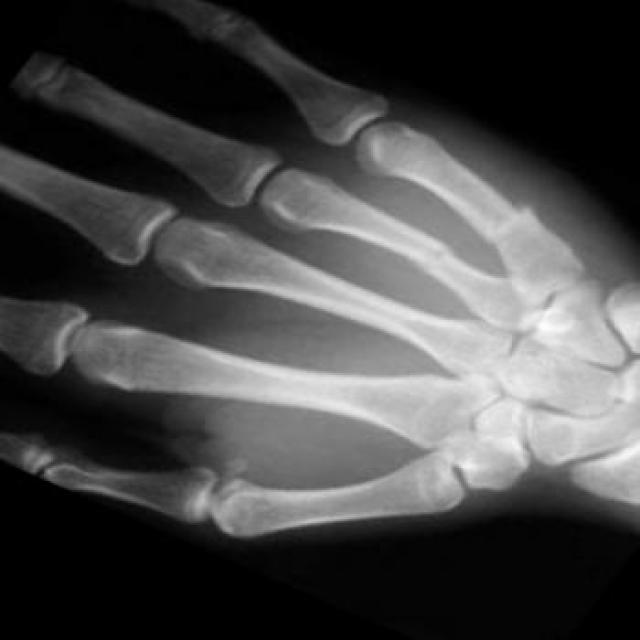Fracture: (475, 200, 547, 242), (422, 232, 460, 269)
